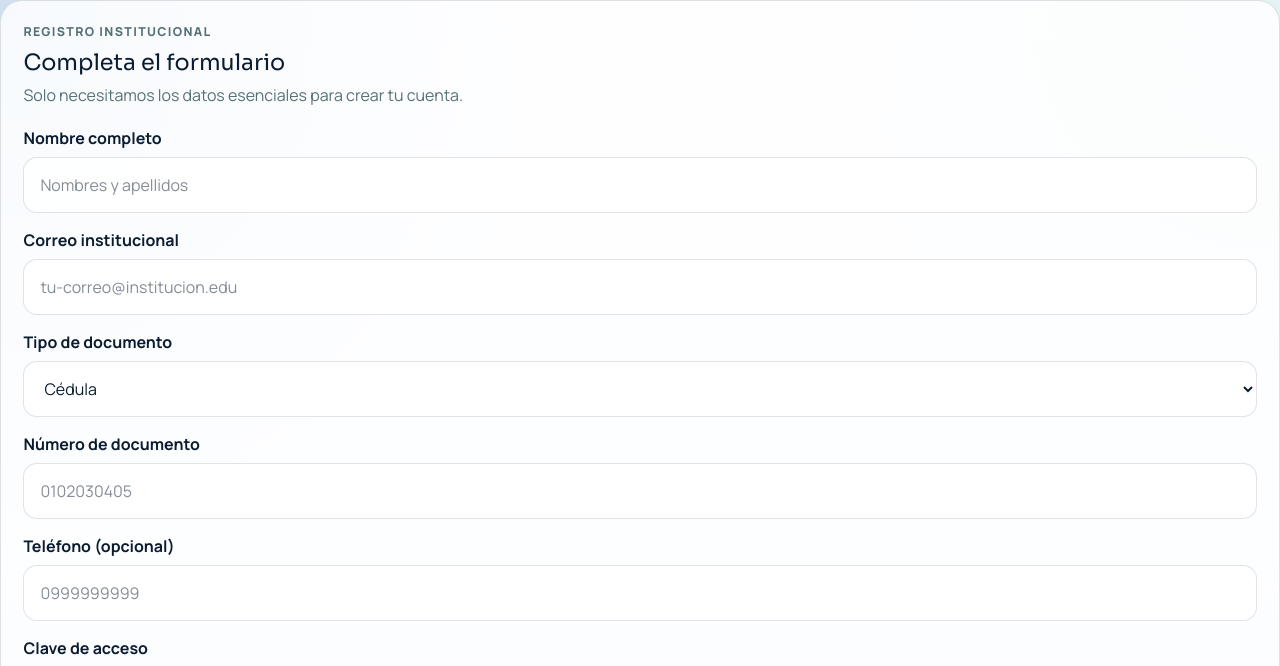
Scenario: RegisterForm › shows the email validation when the field loses focus with an invalid value
The image size is (1280, 666).
Type "correo-invalido" into the field labelled "Correo institucional" at (640, 287), box left=23, top=259, right=1257, bottom=315
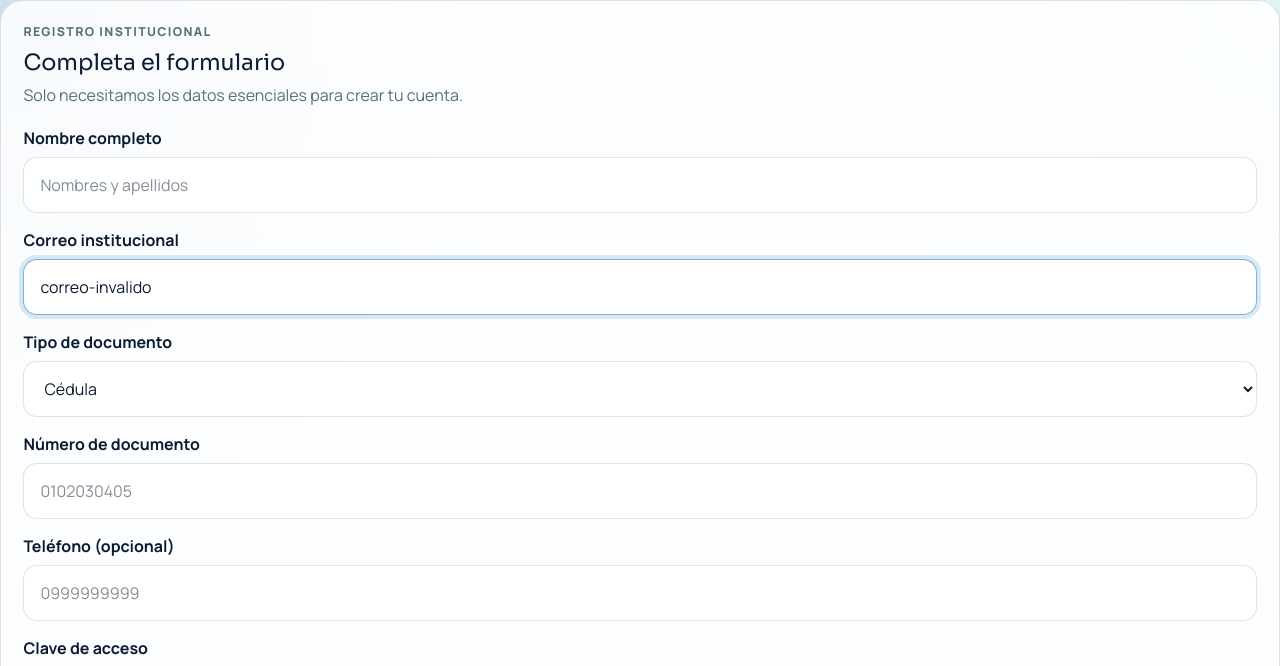
Press Tab
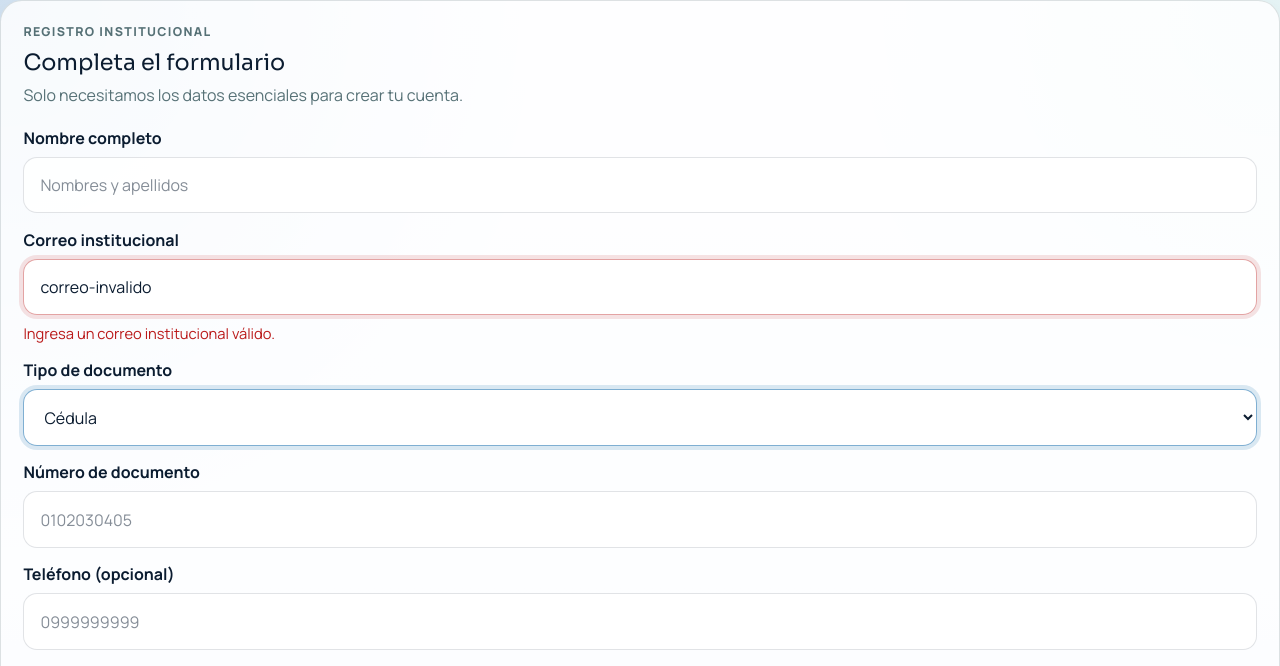
Expected: the text "Ingresa un correo institucional válido." is shown, left=23, top=323, right=275, bottom=343
